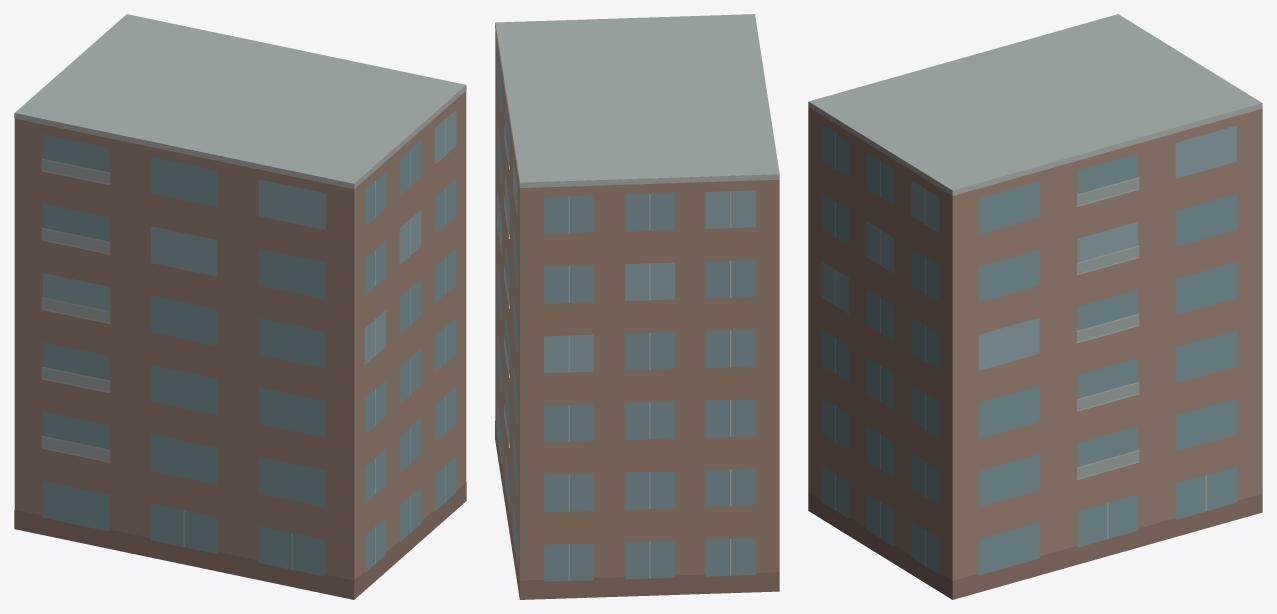
The model's file is survey-upis-32591162.glb.
3 views of the same model, side by side, from view 1: azimuth 30°, elevation 25°; view 2: azimuth 150°, elevation 25°; view 3: azimuth 270°, elevation 25° (orthographic).
Visible parts, largest first — view 1: survey-upis-32591162.tmp; view 2: survey-upis-32591162.tmp; view 3: survey-upis-32591162.tmp.
Part boxes in pixels (box(x1,y1,x2,y2)): survey-upis-32591162.tmp: box(14, 14, 466, 599); survey-upis-32591162.tmp: box(495, 14, 779, 599); survey-upis-32591162.tmp: box(808, 14, 1262, 599).
Size of the model in its own units: 17.03 by 18.4 by 18.51.
